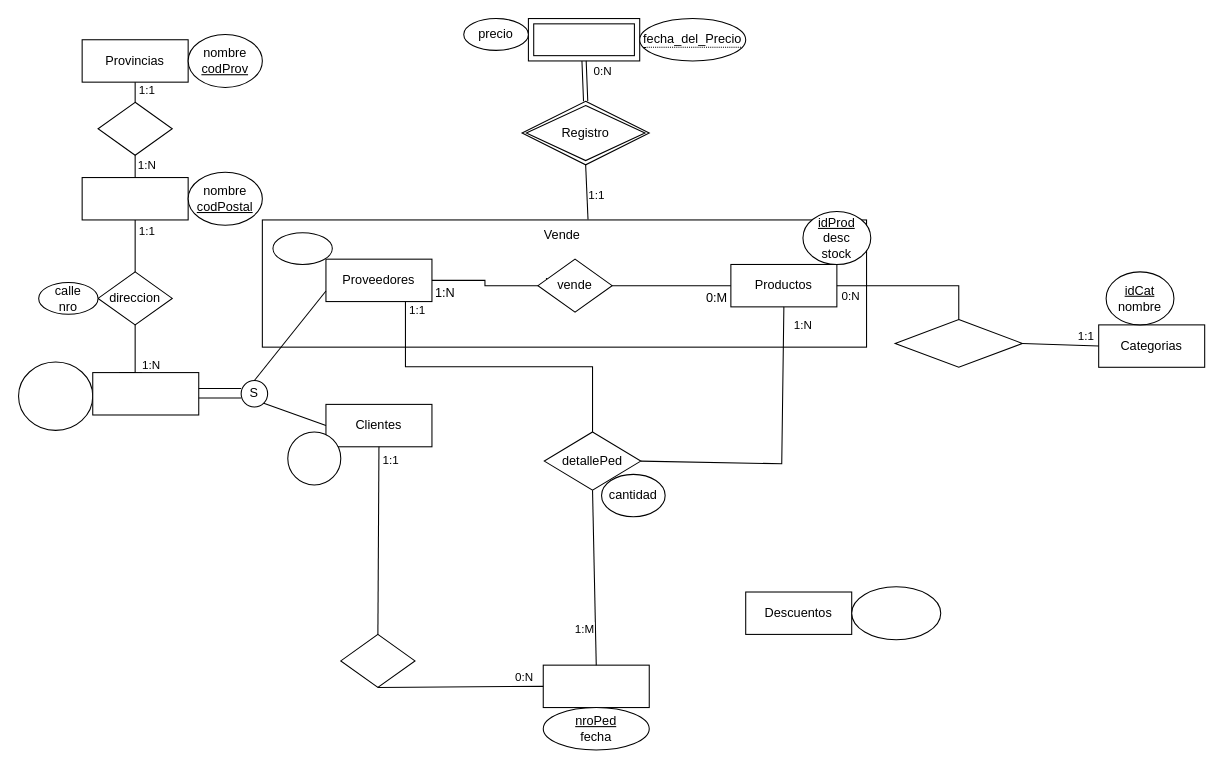
The diagram is 1223 pixels wide and 768 high, and some of its shapes have lost their labels. The centre of each missing label's shape, as x and y in pixels:
"cuit razonSocial tel mail" belongs at (x=55, y=395).
"fecha monto porcentaje" belongs at (x=896, y=613).
"Historial_Precios" belongs at (x=583, y=39).
"le_corresponde" belongs at (x=958, y=343).
"Localidades" belongs at (x=134, y=198).
"nombre apellido" belongs at (x=314, y=458).
"pagWeb" belongs at (x=302, y=248).
"Pedidos" belongs at (x=595, y=686).
"Personas" belongs at (x=145, y=393).
"pertenece" belongs at (x=134, y=128).
"realiza" belongs at (x=377, y=660).
